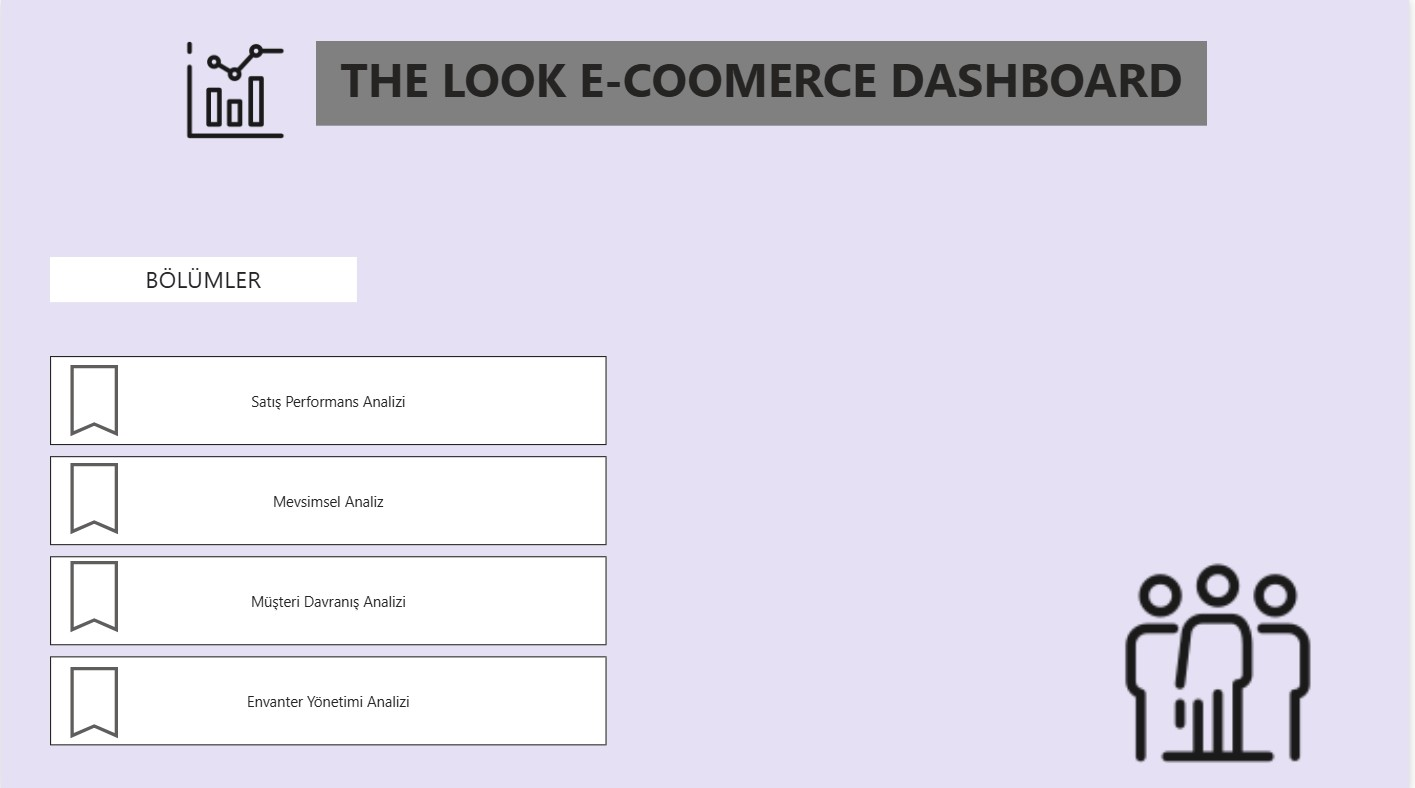

Layout of this report page (visuals, bound fields, positions):
{"tool":"powerbi","page":{"name":"Dashboard","canvas":[1280,720],"ordinal":0},"visuals":[{"type":"textbox","box":[285.9,37.4,809.5,77.2],"z":0},{"type":"image","box":[164.1,37.4,98.9,89.3],"z":1000},{"type":"image","box":[1002.6,503.1,207.5,190.6],"z":2000},{"type":"textbox","box":[44.6,234,278.7,41],"z":3000},{"type":"pageNavigator","box":[44.6,323.3,506.7,355.9],"z":4000},{"type":"actionButton","box":[44.6,323.3,506.7,80.8],"z":5000},{"type":"actionButton","box":[44.6,412.6,506.7,80.8],"z":6000},{"type":"actionButton","box":[44.6,501.9,506.7,80.8],"z":7000},{"type":"actionButton","box":[44.6,598.4,506.7,80.8],"z":8000}]}

Visuals, with their boxes in screenshot pixels (x1, y1, x2, y2), scaled from the page's 1280x720 canvas onto the 1415x788 screenshot:
textbox: {"x1": 316, "y1": 41, "x2": 1211, "y2": 125}
image: {"x1": 181, "y1": 41, "x2": 291, "y2": 139}
image: {"x1": 1108, "y1": 551, "x2": 1338, "y2": 759}
textbox: {"x1": 49, "y1": 256, "x2": 357, "y2": 301}
pageNavigator: {"x1": 49, "y1": 354, "x2": 609, "y2": 743}
actionButton: {"x1": 49, "y1": 354, "x2": 609, "y2": 442}
actionButton: {"x1": 49, "y1": 452, "x2": 609, "y2": 540}
actionButton: {"x1": 49, "y1": 549, "x2": 609, "y2": 638}
actionButton: {"x1": 49, "y1": 655, "x2": 609, "y2": 743}
